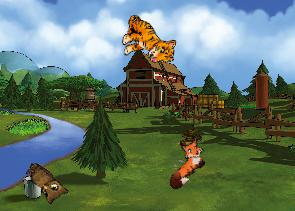fox: (153, 132, 215, 192)
owl: (17, 160, 71, 209)
tiger: (119, 14, 178, 65)
